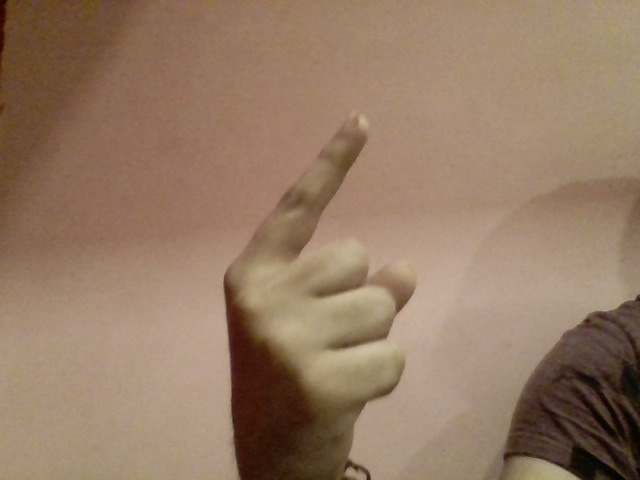z: (218, 102, 433, 480)
